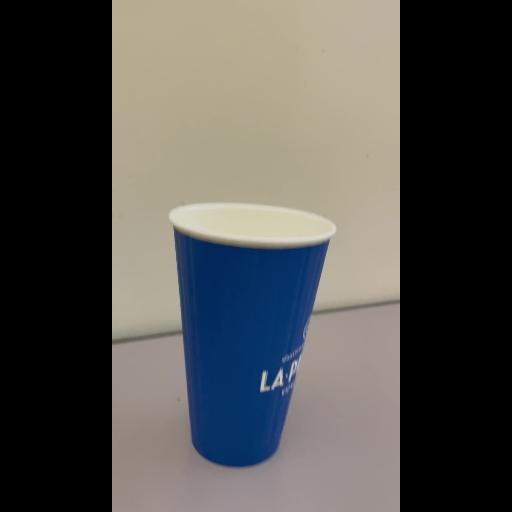lp_paper_cup: (170, 204, 336, 466)
